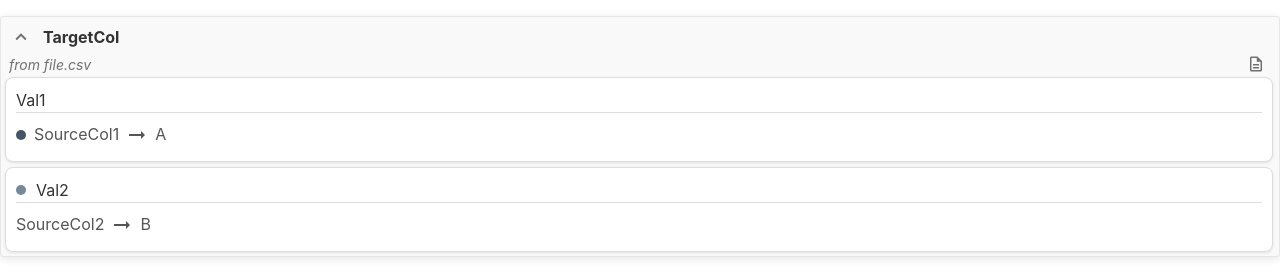
Test case: <MappingHierarchy /> › shows "No terminology" when terminology is empty
Click the button titled "Show metadata for TargetCol" at (1256, 64), box [1245, 53, 1267, 75]
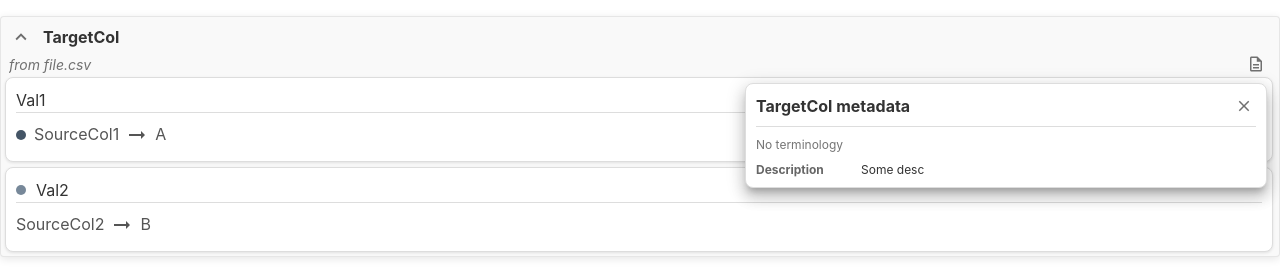
Check: the text "No terminology" is shown, box [756, 137, 843, 152]
